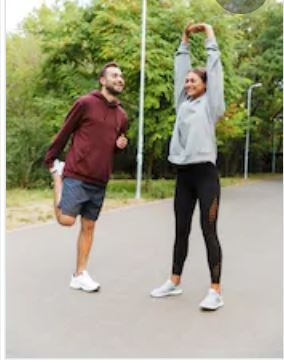Caution: (44, 22, 226, 314)
